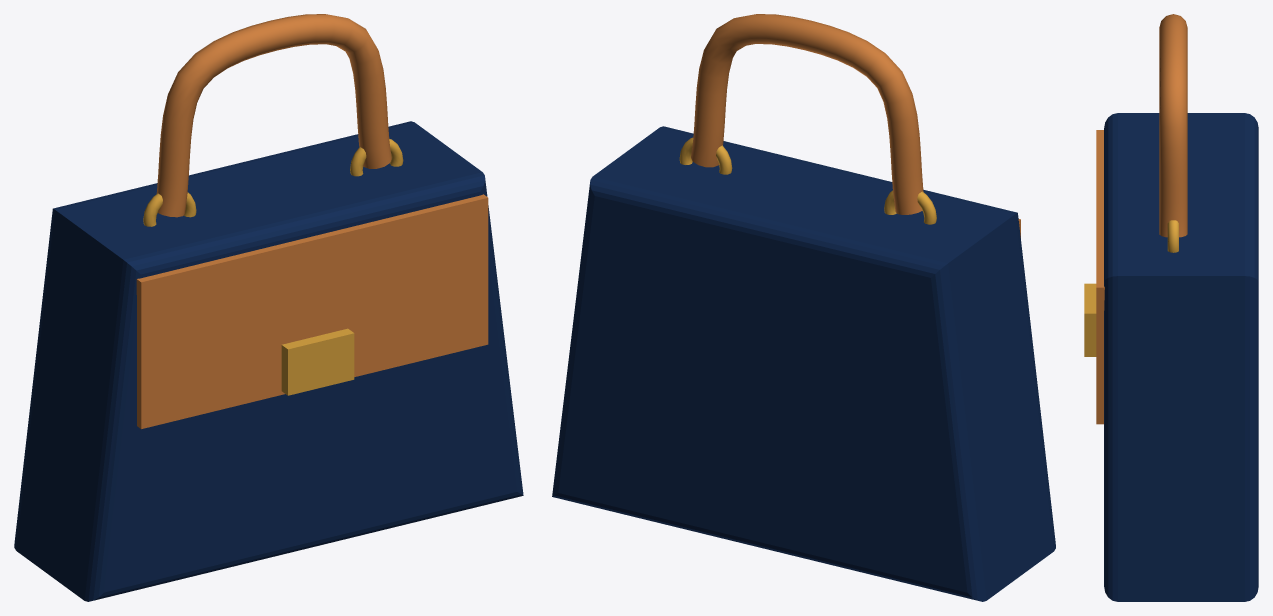
The model's file is fashion-handbag.glb.
The picture shows the model from 3 angles, left to right: view 1: azimuth 30°, elevation 25°; view 2: azimuth 150°, elevation 25°; view 3: azimuth 270°, elevation 25°; orthographic projection. The views are drawn at different scales.
Visible parts, largest first — view 1: FashionHandbag; view 2: FashionHandbag; view 3: FashionHandbag.
Boxes of the visible parts, x1=… form: FashionHandbag: x1=14, y1=14, x2=523, y2=601; FashionHandbag: x1=552, y1=14, x2=1055, y2=601; FashionHandbag: x1=1084, y1=14, x2=1258, y2=601.
Bounding box in the file's own units: 1.18 × 1.3 × 0.44.
